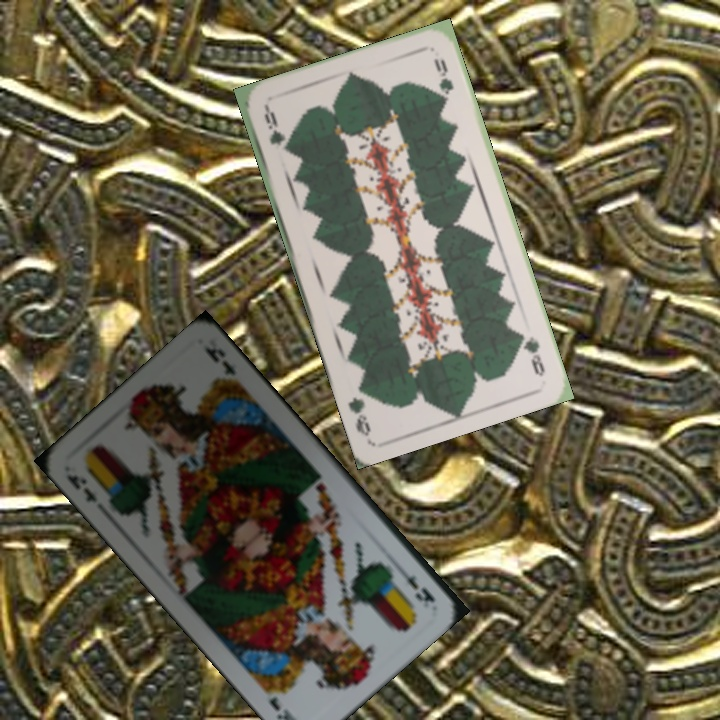EK: (392, 561, 438, 611), (62, 470, 100, 506)
G9: (515, 327, 548, 379), (260, 104, 289, 156)
